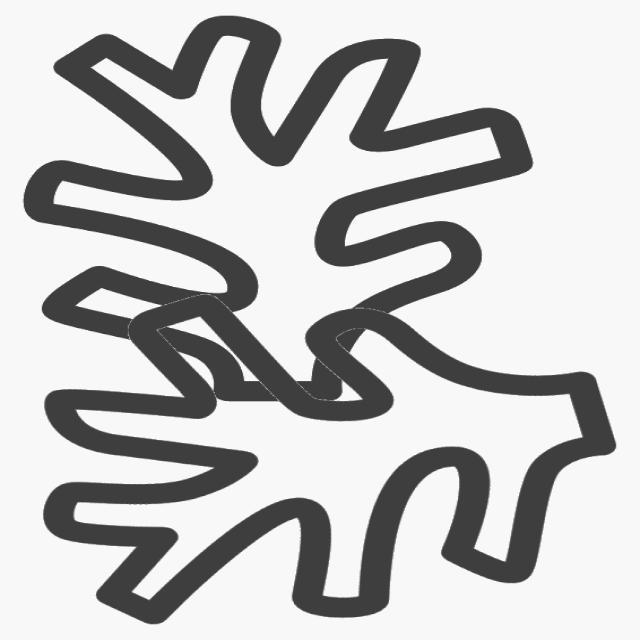coral: (10, 10, 552, 407), (14, 285, 626, 628)
